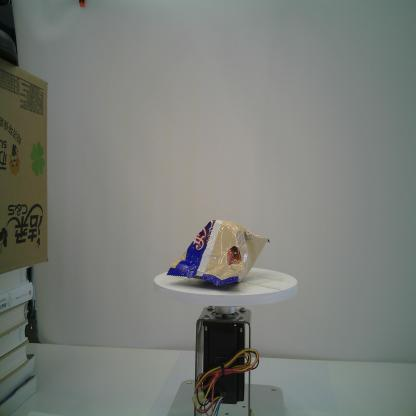Dessert: (165, 218, 270, 287)
